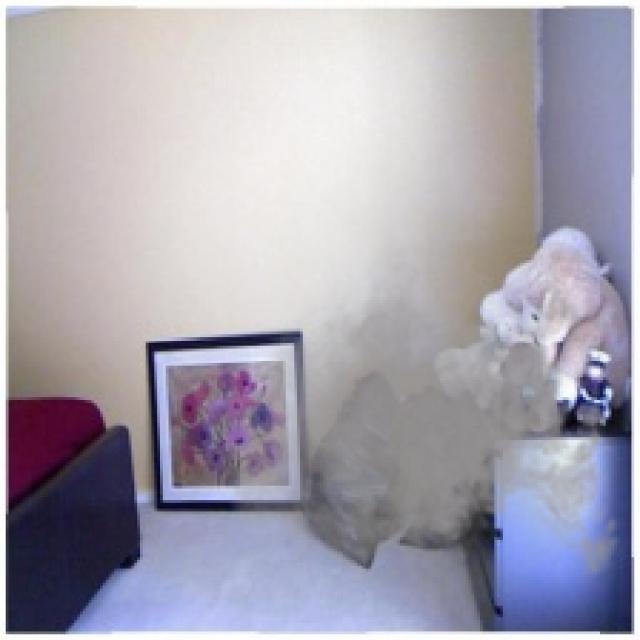smoke: (223, 223, 631, 637)
